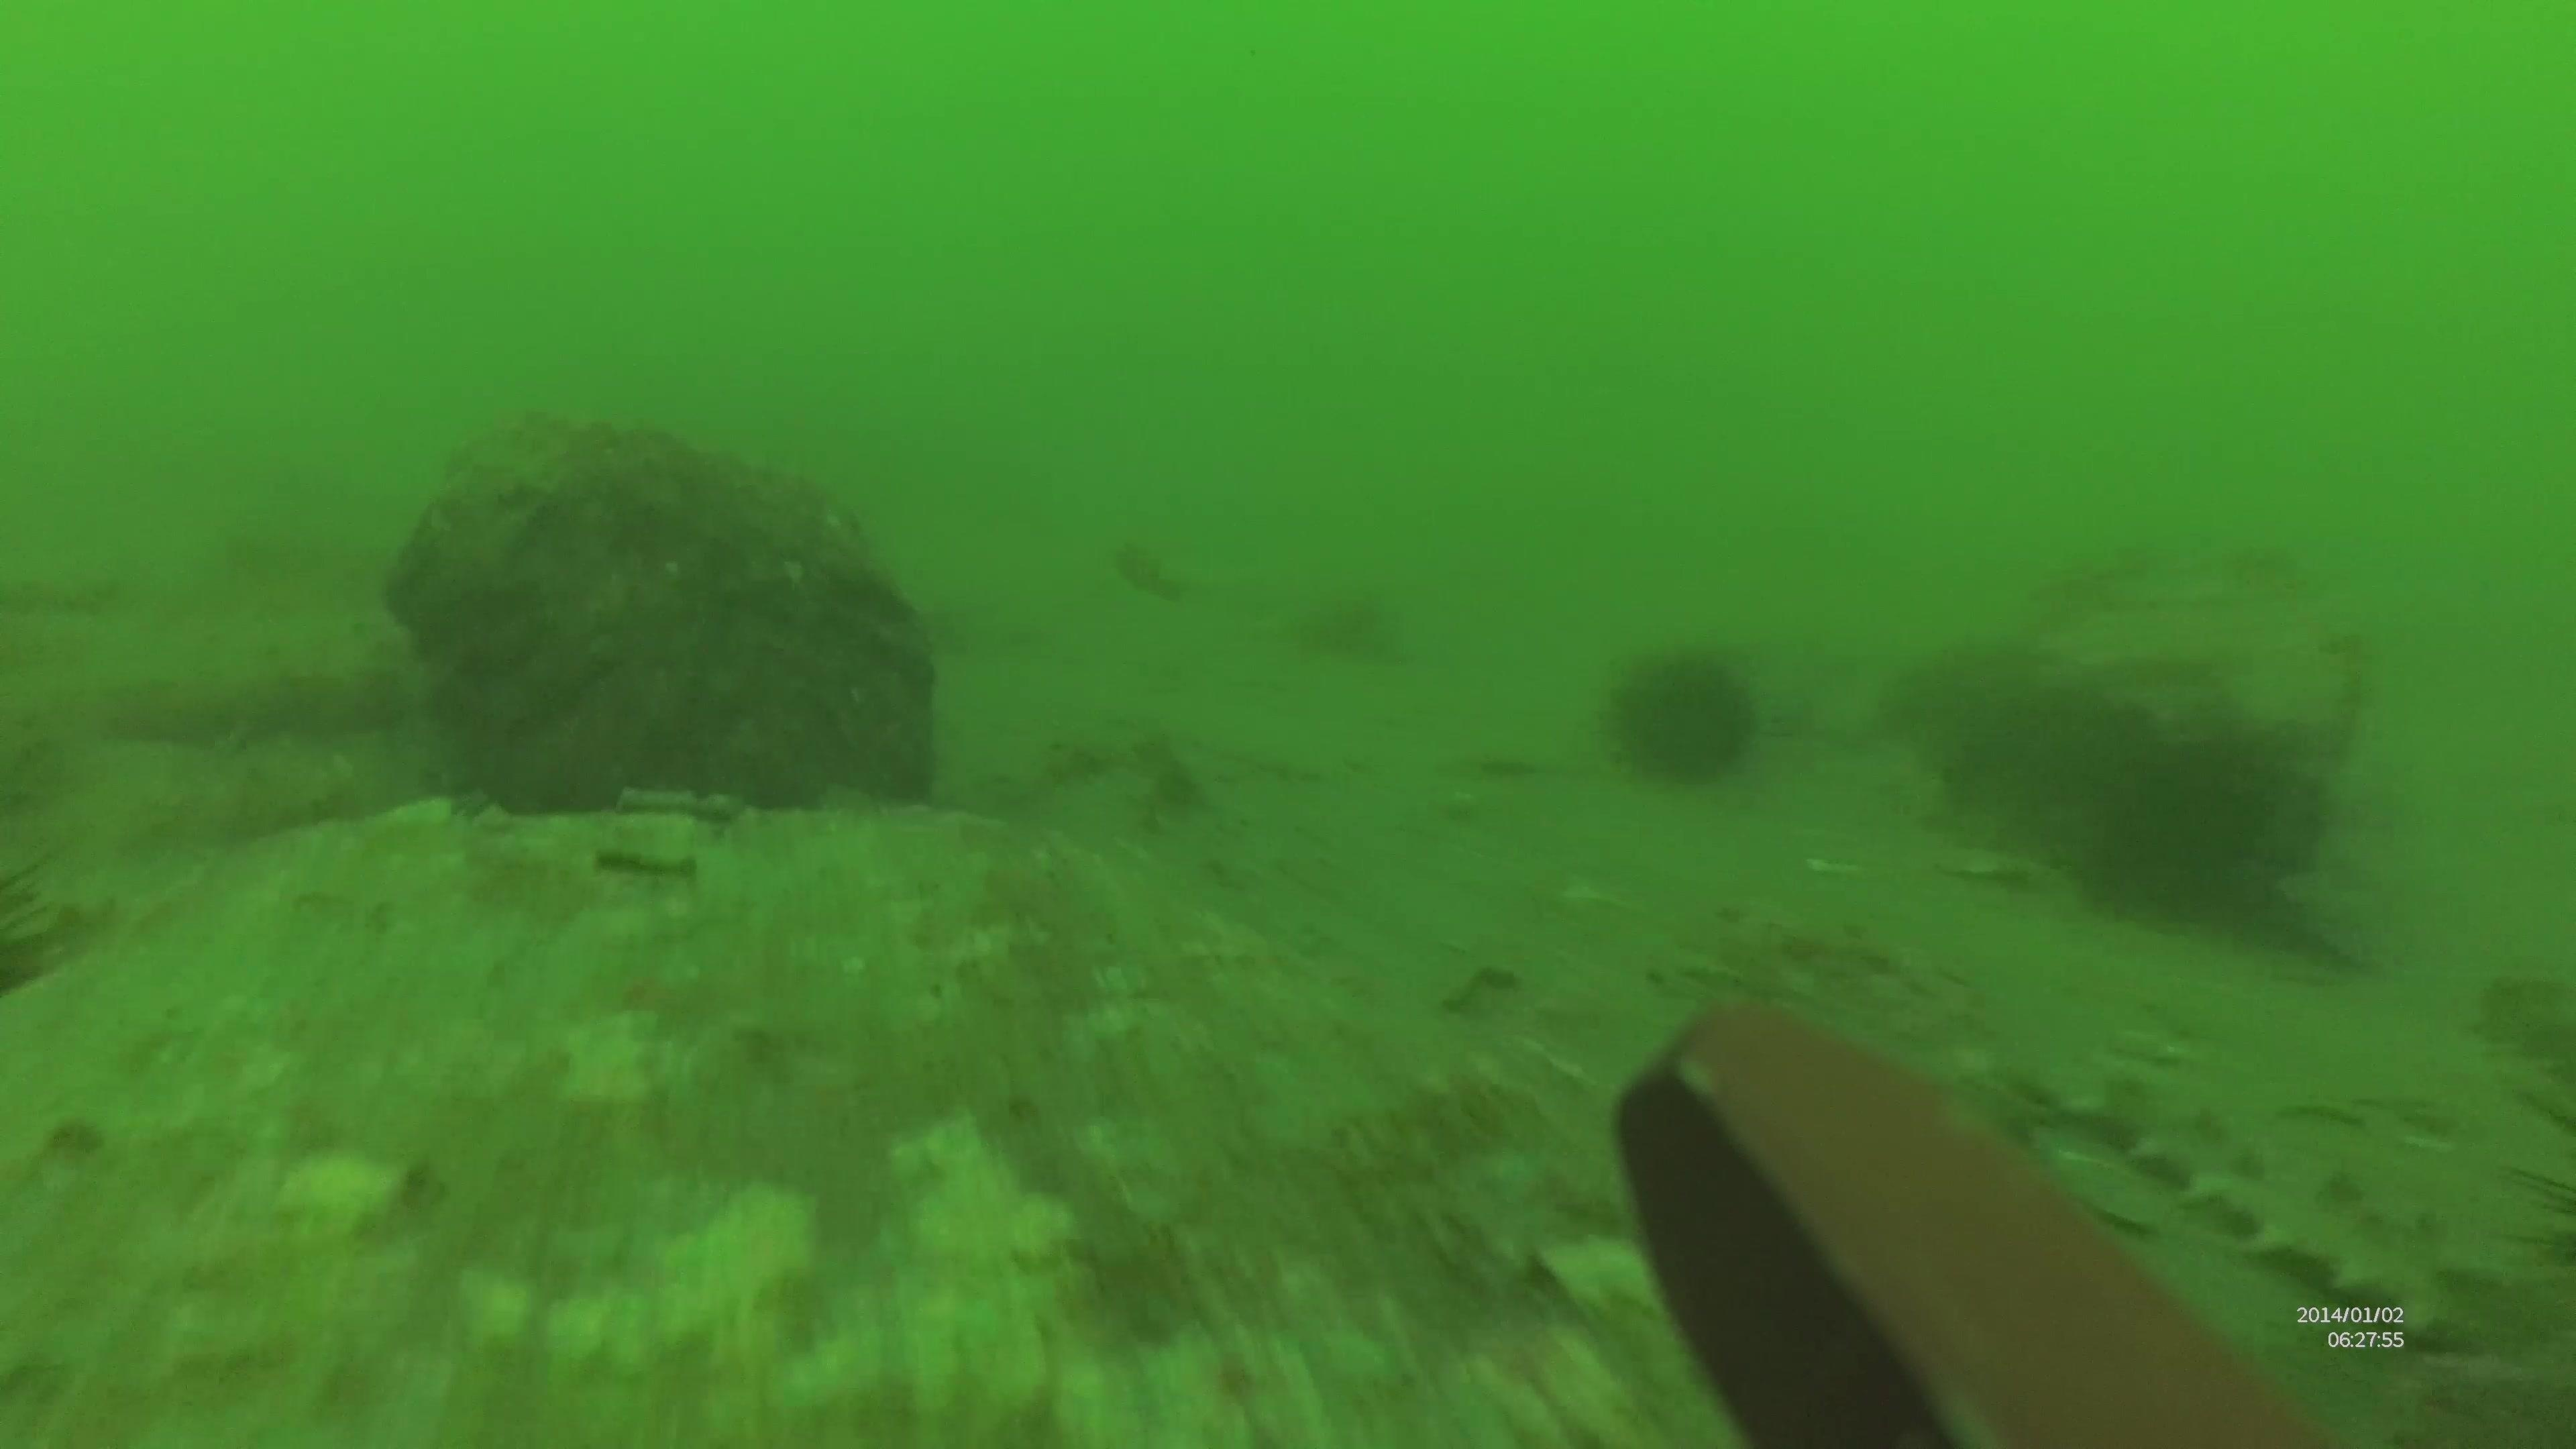echinus: (2063, 709, 2337, 936), (1596, 635, 1766, 794)
holothurian: (2059, 1053, 2549, 1341)
